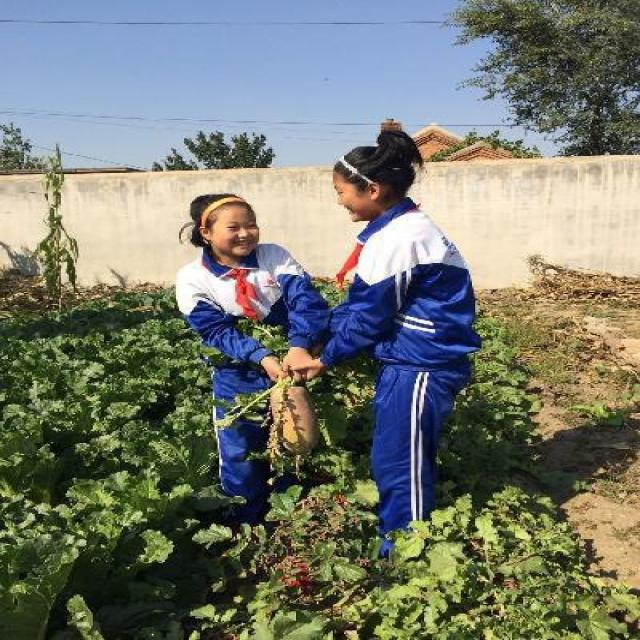Manusia: (164, 182, 349, 524)
